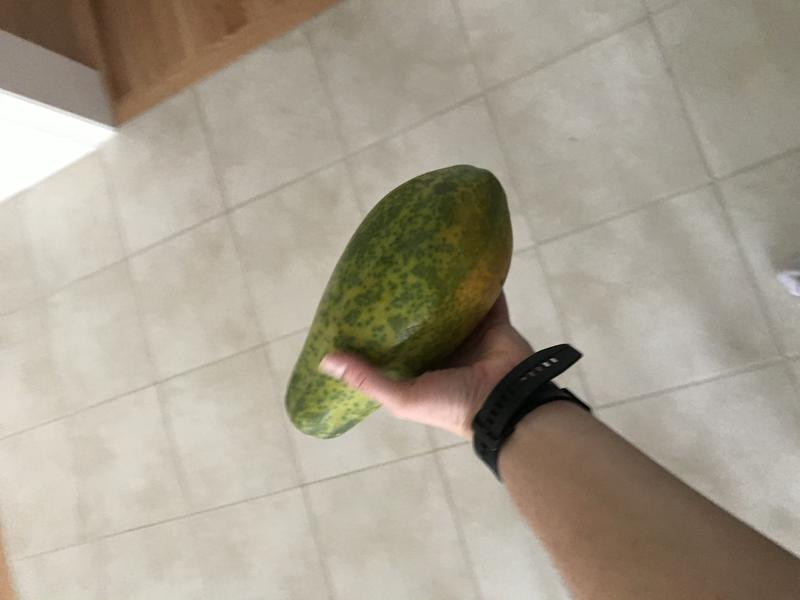papaya: (275, 147, 520, 454)
